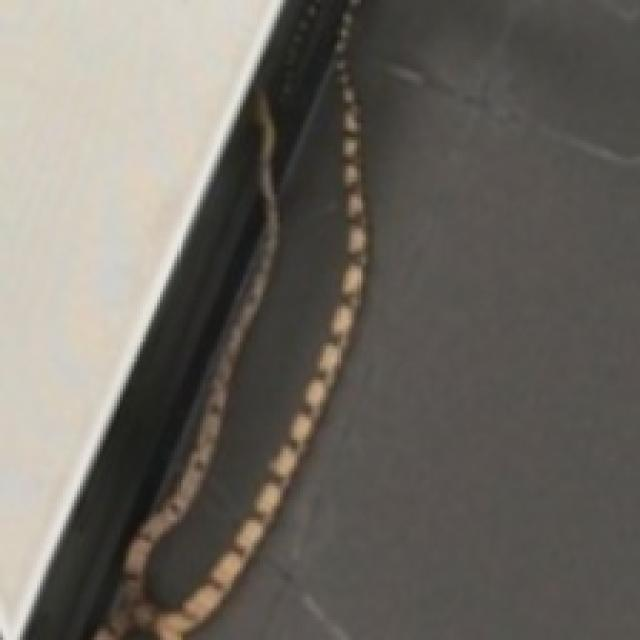dog-toothed cat snake: (23, 0, 366, 637), (23, 0, 343, 637)
